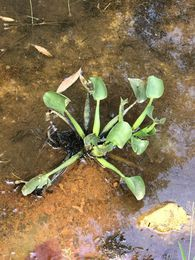water_hyacinth: (23, 62, 161, 204)
